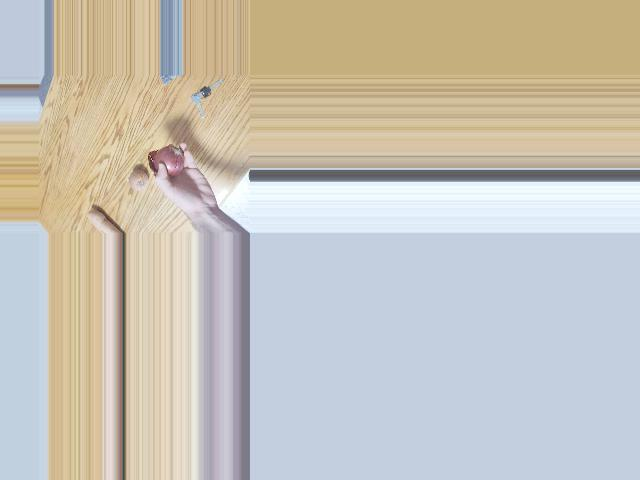onion: (130, 170, 154, 194)
